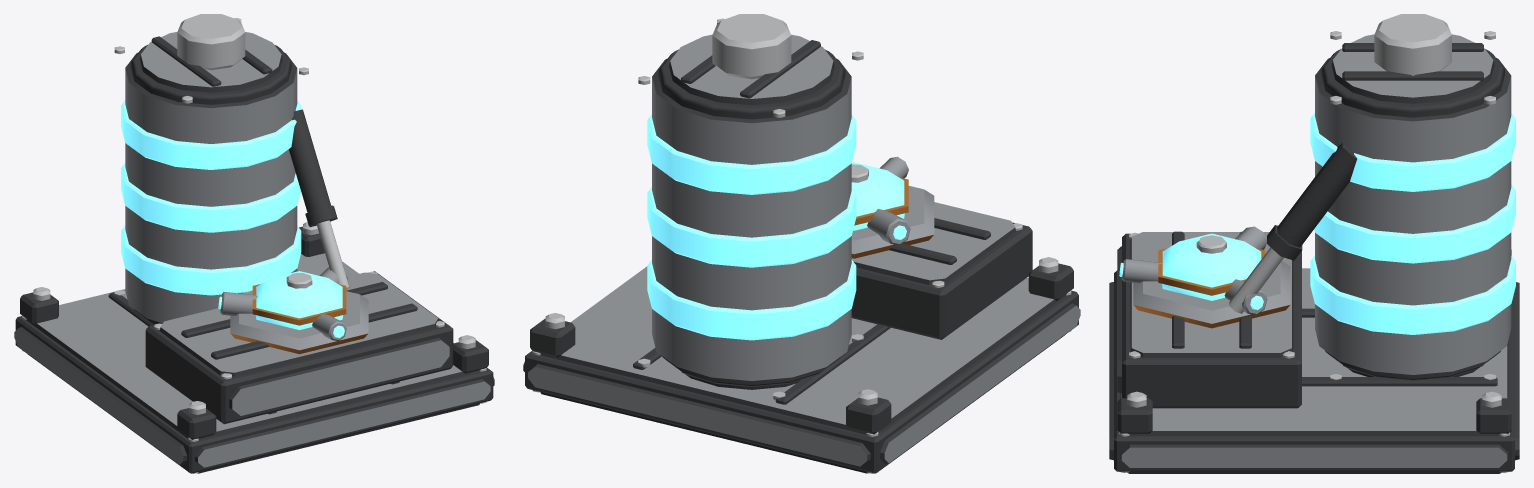
The model's file is R4X_SlowTrapDeployer.fbx.
The picture shows the model from 3 angles, left to right: view 1: azimuth 30°, elevation 25°; view 2: azimuth 150°, elevation 25°; view 3: azimuth 270°, elevation 25°; orthographic projection. The views are drawn at different scales.
Visible parts, largest first — view 1: R4X_SlowTrapDeployer_Body, R4X_SlowTrapDeployer_Payload; view 2: R4X_SlowTrapDeployer_Body, R4X_SlowTrapDeployer_Payload; view 3: R4X_SlowTrapDeployer_Body, R4X_SlowTrapDeployer_Payload.
Boxes of the visible parts, x1,y1,x2,y2 form: R4X_SlowTrapDeployer_Body: (14,14,494,473); R4X_SlowTrapDeployer_Payload: (218,267,368,354); R4X_SlowTrapDeployer_Body: (523,14,1080,473); R4X_SlowTrapDeployer_Payload: (851,156,934,258); R4X_SlowTrapDeployer_Body: (1109,14,1519,473); R4X_SlowTrapDeployer_Payload: (1119,226,1290,328).
Bounding box in the file's own units: 0.52 × 0.51 × 0.52.
